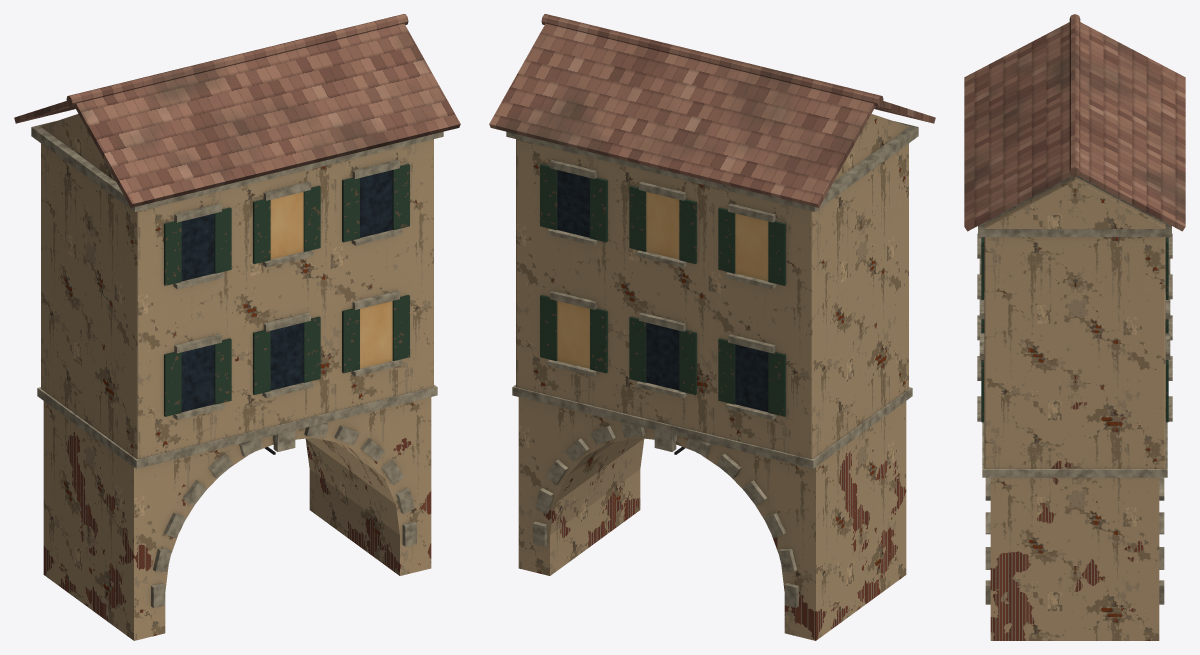
The model's file is siracusa_arch_house.glb.
3 renders of one model, left to right at view 1: azimuth 30°, elevation 25°; view 2: azimuth 150°, elevation 25°; view 3: azimuth 270°, elevation 25°, orthographic. The views are drawn at different scales.
Parts seen in each view (by area): view 1: siracusa_arch_house; view 2: siracusa_arch_house; view 3: siracusa_arch_house.
Part boxes in pixels (box(x1,y1,x2,y2)): siracusa_arch_house: box(14, 14, 460, 640); siracusa_arch_house: box(489, 14, 935, 640); siracusa_arch_house: box(964, 14, 1185, 640).
Bounding box in the file's own units: 8.6 × 12.63 × 5.24.
Materials: 7 (7 with a texture image).
